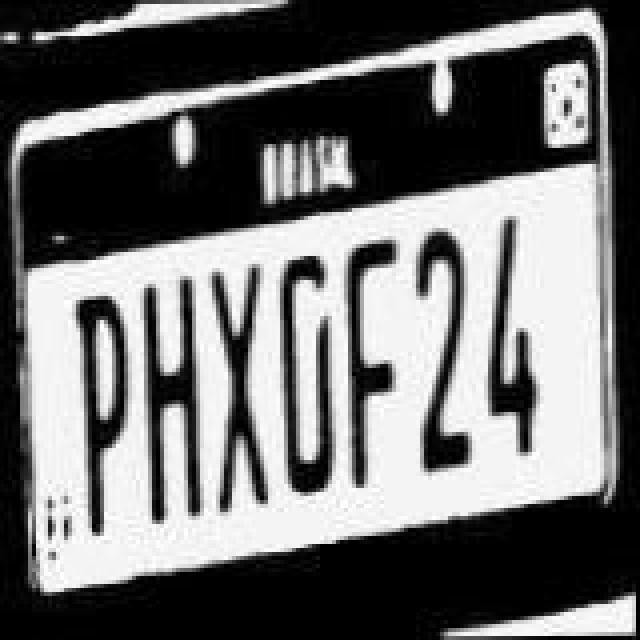2: (408, 230, 476, 478)
4: (478, 214, 542, 458)
D: (274, 254, 338, 498)
F: (340, 238, 400, 490)
H: (138, 274, 206, 530)
P: (74, 294, 134, 538)
X: (212, 262, 276, 510)
